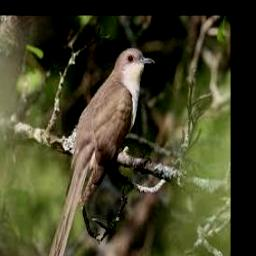Cuckoo: (46, 47, 155, 256)
